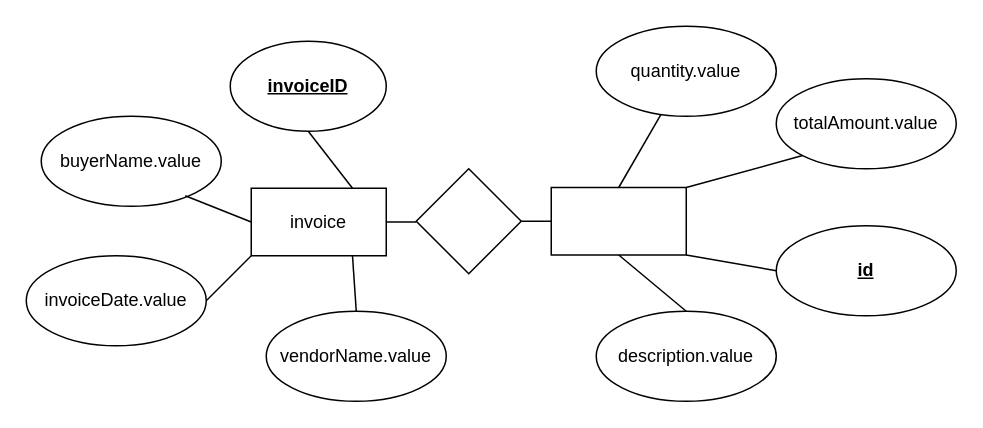
Some shapes in this 983 by 428 pixel diagram are drawn without their labels. The centre of each missing label's shape, as x and y in pixels:
contains: point (468, 220)
lineItem: point (618, 220)
